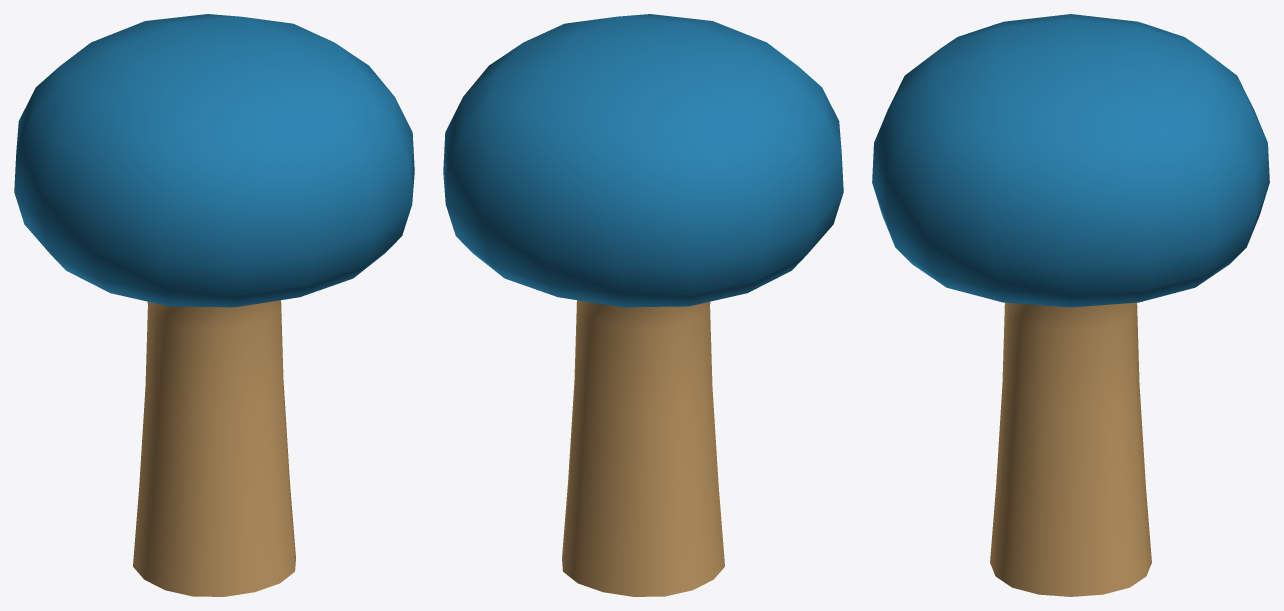
The model's file is prop42.fbx.
3 renders of one model, left to right at view 1: azimuth 30°, elevation 25°; view 2: azimuth 150°, elevation 25°; view 3: azimuth 270°, elevation 25°, orthographic.
Visible parts, largest first — view 1: Cube.029; view 2: Cube.029; view 3: Cube.029.
Part boxes in pixels (x1,y1,x2,y2): Cube.029: (14, 14, 414, 596); Cube.029: (443, 14, 843, 596); Cube.029: (872, 14, 1269, 596).
Bounding box in the file's own units: 0.3826 × 0.3826 × 0.5481.
